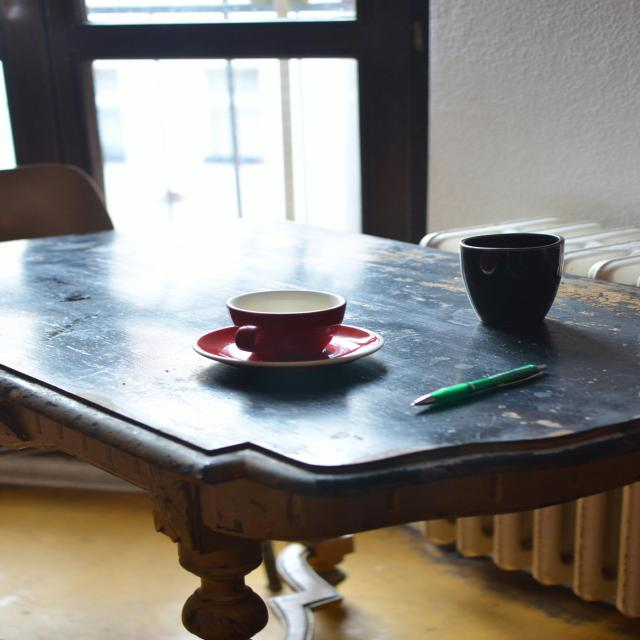Red_cup: (226, 290, 345, 358)
